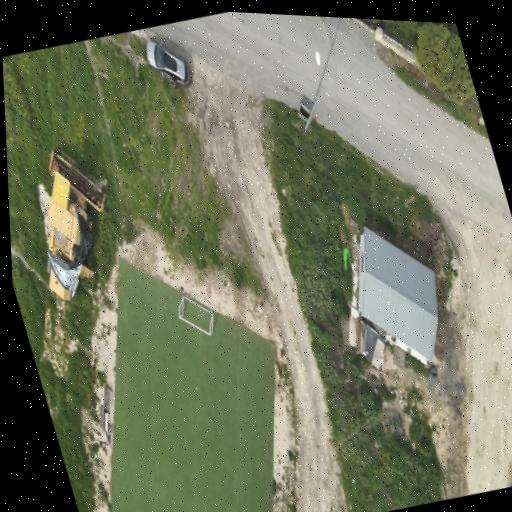car: (146, 40, 190, 86)
harvester: (41, 148, 104, 300)
person: (170, 78, 177, 88)
